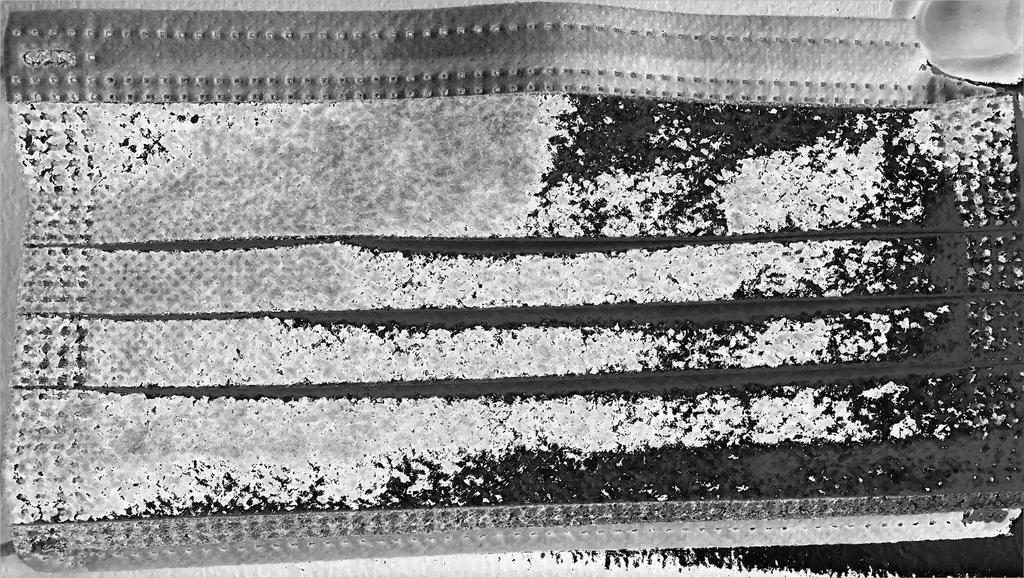High GSM: (5, 85, 1024, 527)
